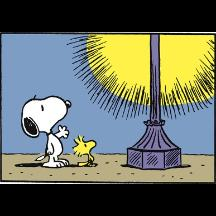snoopy: (20, 95, 72, 170)
